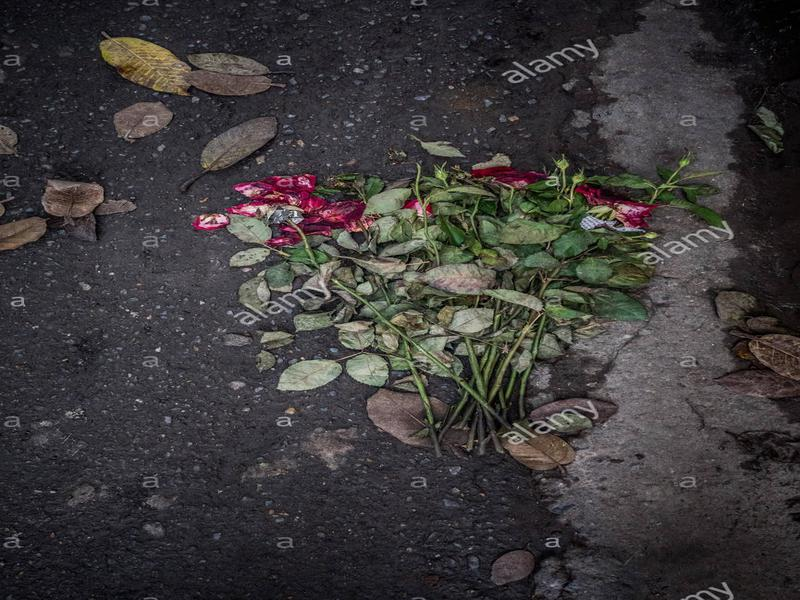flowers: (183, 147, 717, 253)
leaf: (92, 30, 198, 100), (183, 42, 292, 100), (183, 111, 282, 174), (709, 360, 800, 405), (39, 171, 108, 229), (106, 94, 178, 146), (268, 353, 345, 398), (483, 541, 541, 590), (345, 348, 393, 392)
